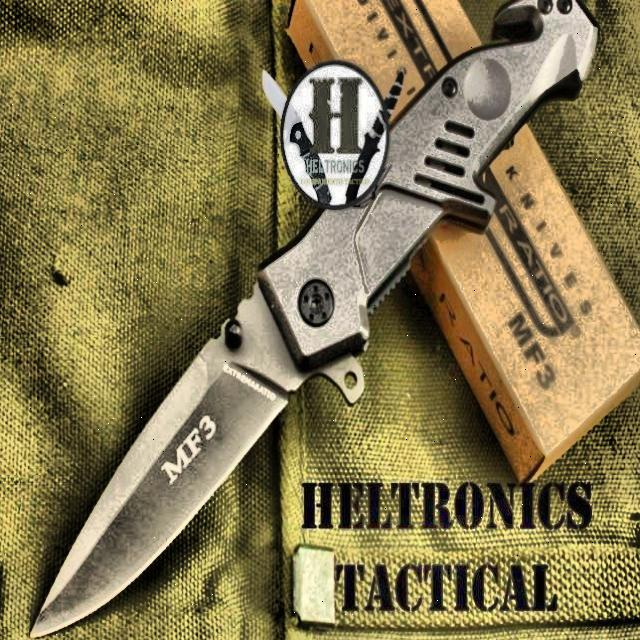knife: (31, 3, 598, 638), (262, 74, 331, 209), (348, 69, 403, 206)
